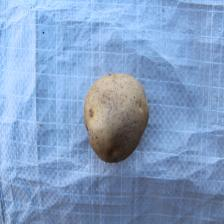Diseased-fungal potato: (82, 70, 150, 167)
